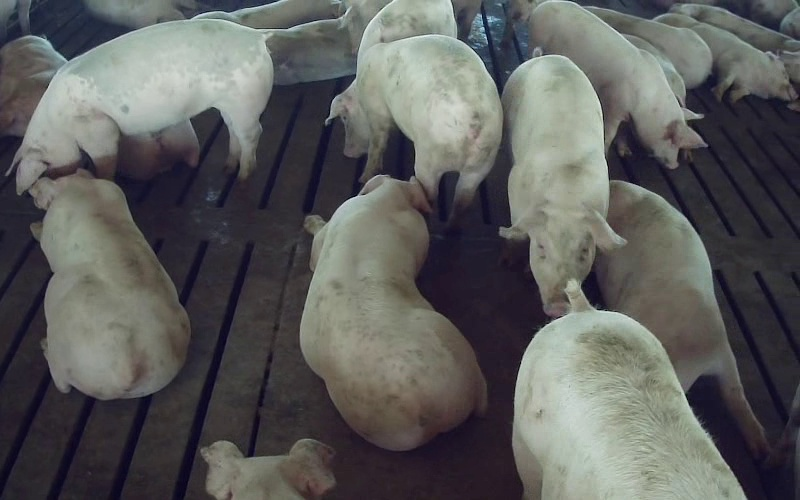pig: (300, 175, 486, 450), (512, 281, 744, 499), (595, 181, 768, 456), (9, 20, 272, 192), (29, 170, 189, 399), (327, 35, 502, 227), (500, 55, 625, 316), (529, 0, 706, 168), (655, 13, 796, 104), (584, 6, 712, 88), (0, 35, 66, 136), (669, 4, 799, 52)
